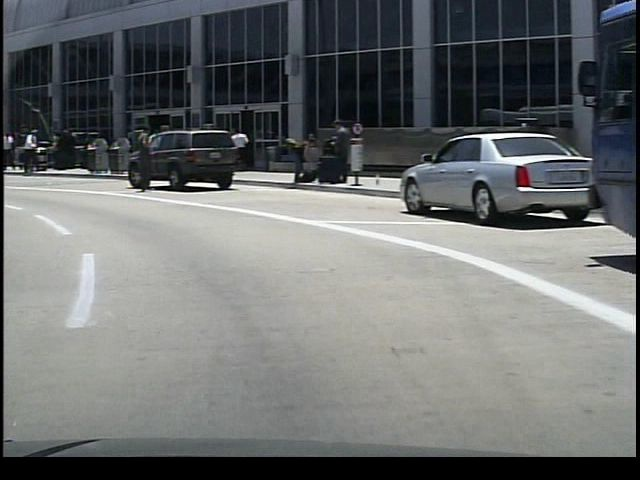person: (317, 119, 353, 189), (124, 116, 153, 200), (283, 128, 312, 182), (14, 124, 43, 178), (225, 124, 247, 173)
